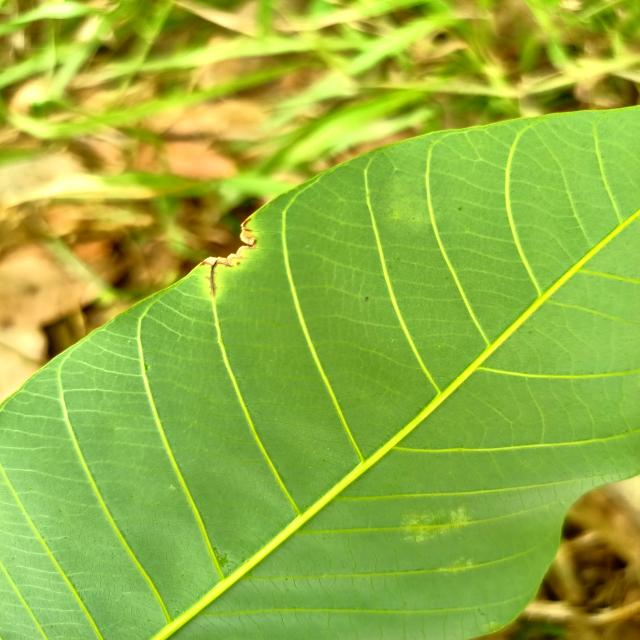Corynespora: (205, 260, 220, 297)
